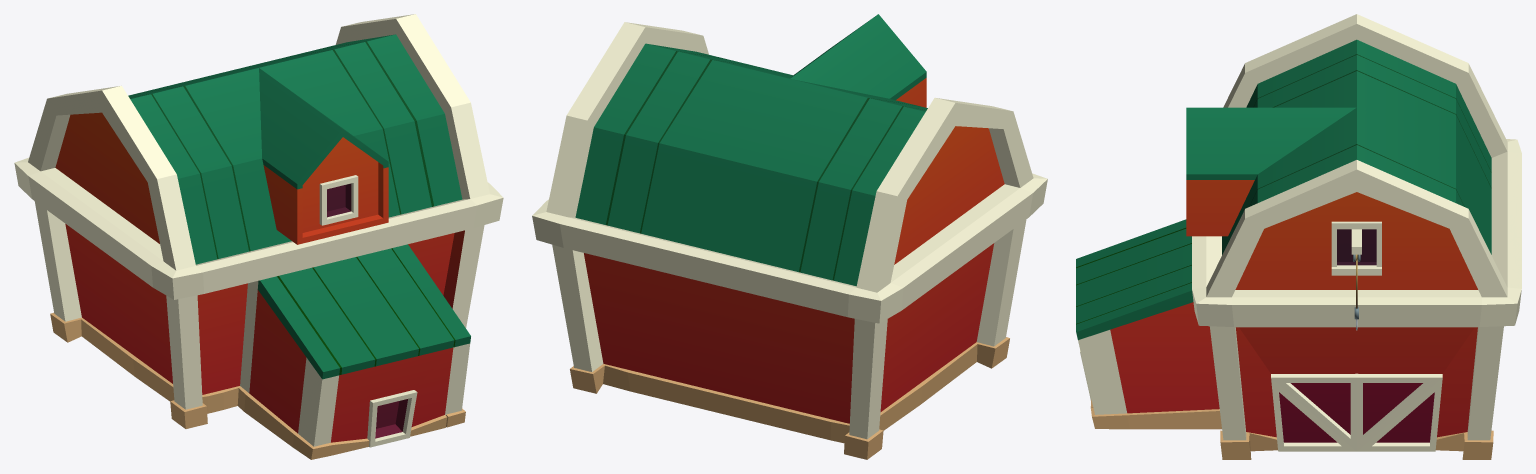
Rendered from BarnHouse.fbx.
The picture shows the model from 3 angles, left to right: view 1: azimuth 30°, elevation 25°; view 2: azimuth 150°, elevation 25°; view 3: azimuth 270°, elevation 25°; orthographic projection. The views are drawn at different scales.
Parts seen in each view (by area): view 1: BarnHouse; view 2: BarnHouse; view 3: BarnHouse.
Boxes of the visible parts, x1=… form: BarnHouse: x1=14, y1=14, x2=503, y2=459; BarnHouse: x1=532, y1=14, x2=1047, y2=459; BarnHouse: x1=1076, y1=14, x2=1521, y2=459.
Size of the model in its own units: 3.12 by 2.51 by 3.39.
